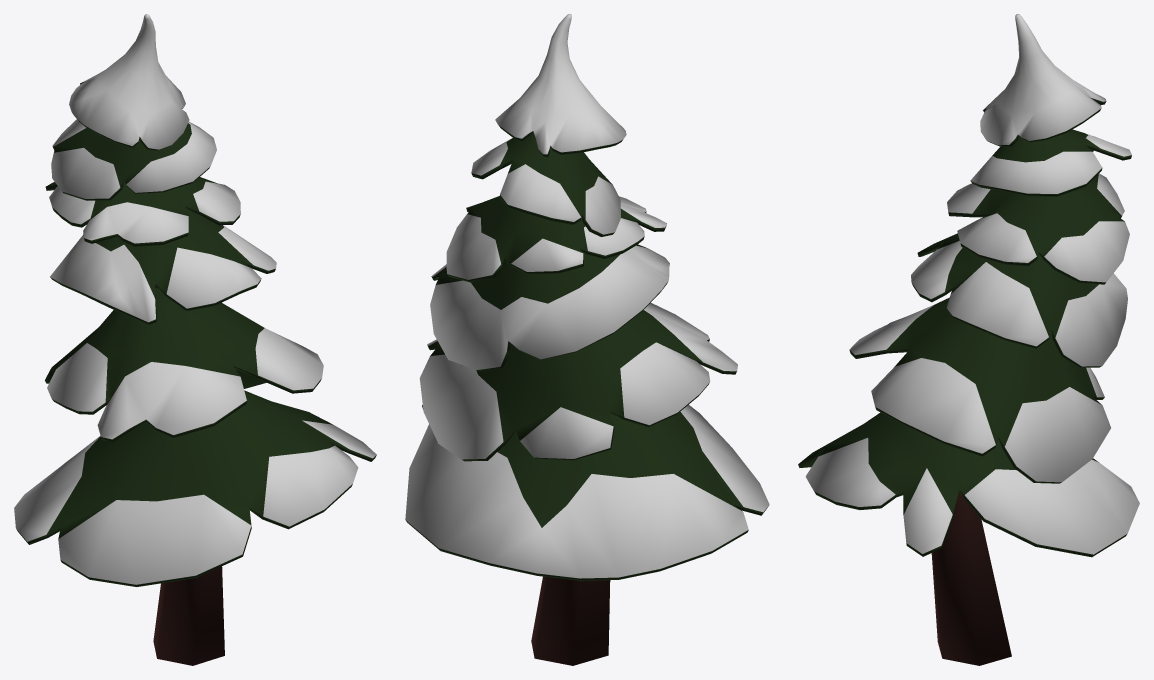
The model's file is PineTree_Snow_3.fbx.
3 renders of one model, left to right at view 1: azimuth 30°, elevation 25°; view 2: azimuth 150°, elevation 25°; view 3: azimuth 270°, elevation 25°, orthographic. The views are drawn at different scales.
Parts seen in each view (by area): view 1: PineTree_Snow_3; view 2: PineTree_Snow_3; view 3: PineTree_Snow_3.
Boxes of the visible parts, x1=… form: PineTree_Snow_3: x1=14, y1=14, x2=376, y2=665; PineTree_Snow_3: x1=405, y1=14, x2=769, y2=665; PineTree_Snow_3: x1=798, y1=14, x2=1139, y2=665.
Size of the model in its own units: 791 by 714 by 1439.
